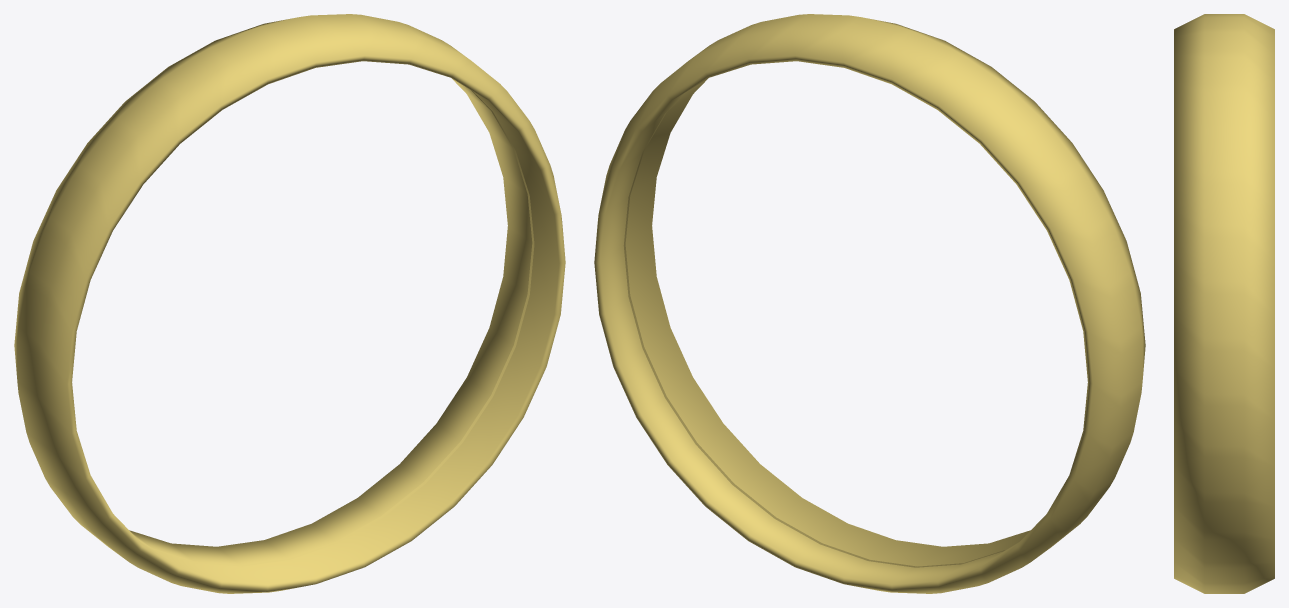
File: gold-ring.glb
3 renders of one model, left to right at view 1: azimuth 30°, elevation 25°; view 2: azimuth 150°, elevation 25°; view 3: azimuth 270°, elevation 25°, orthographic. The views are drawn at different scales.
Visible parts, largest first — view 1: Circle; view 2: Circle; view 3: Circle.
Part boxes in pixels (box(x1,y1,x2,y2)): Circle: box(14, 14, 565, 593); Circle: box(594, 14, 1145, 593); Circle: box(1174, 14, 1274, 593).
Size of the model in its own units: 1.17 by 1.17 by 0.2046.
